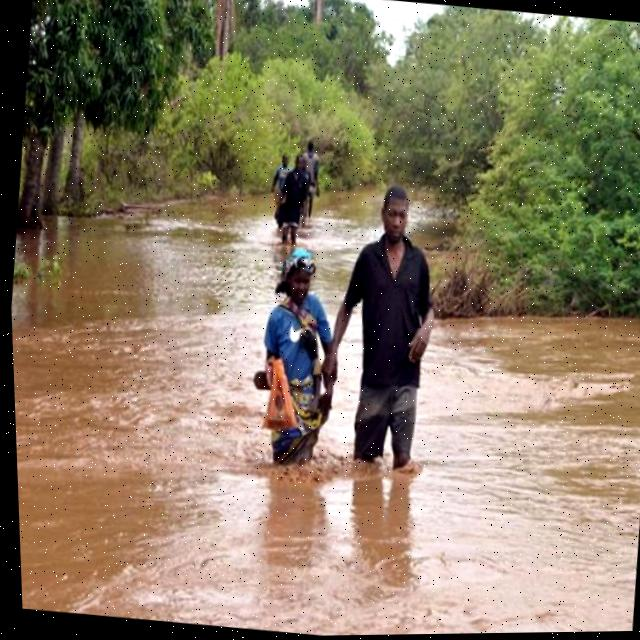civilian: (302, 173, 480, 516), (229, 240, 363, 493), (264, 142, 319, 262), (285, 131, 334, 218), (255, 138, 298, 208)
